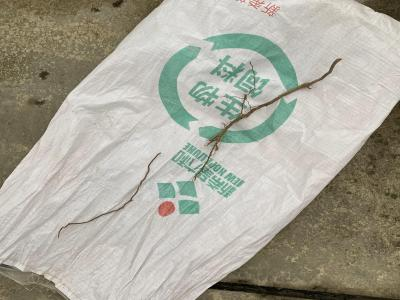Root: (191, 58, 342, 181), (57, 153, 161, 239)
